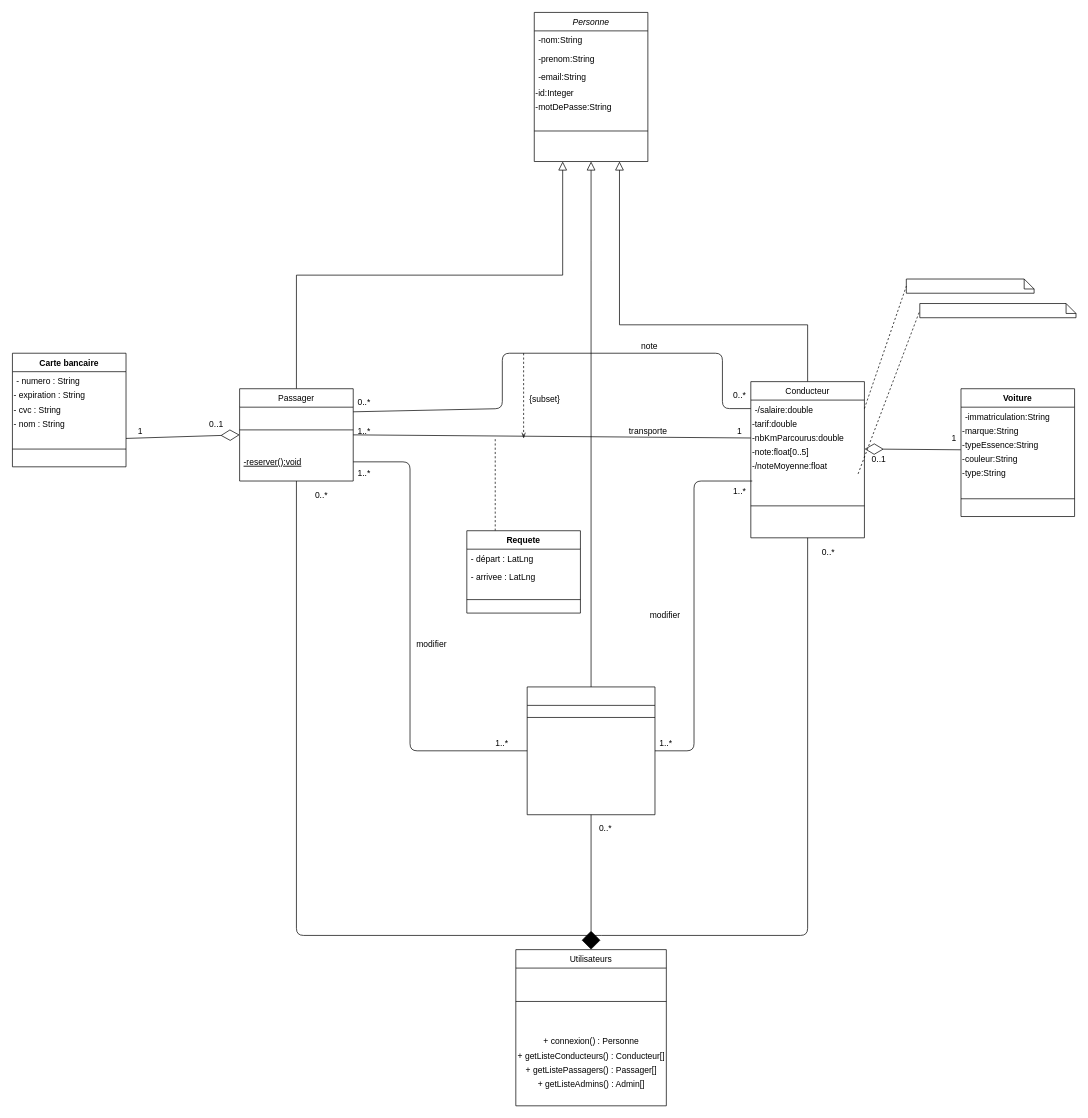
Some shapes in this 1088 by 1118 pixel diagram are drawn without their labels. Each missing label, with the centre of its shape:
"admin" belongs at pixel 590 750.
"{noteMoyenne=( Σ notes)/nbNotes}" belongs at pixel 997 310.
"{salaire=tarif*nbKmParcourus}" belongs at pixel 970 285.
